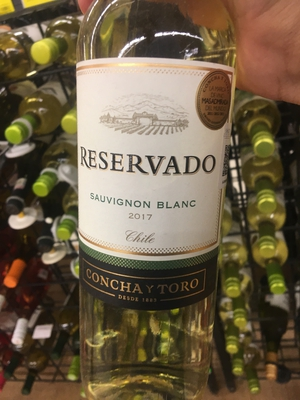reservado sauvignon blanc: (69, 10, 235, 385)
